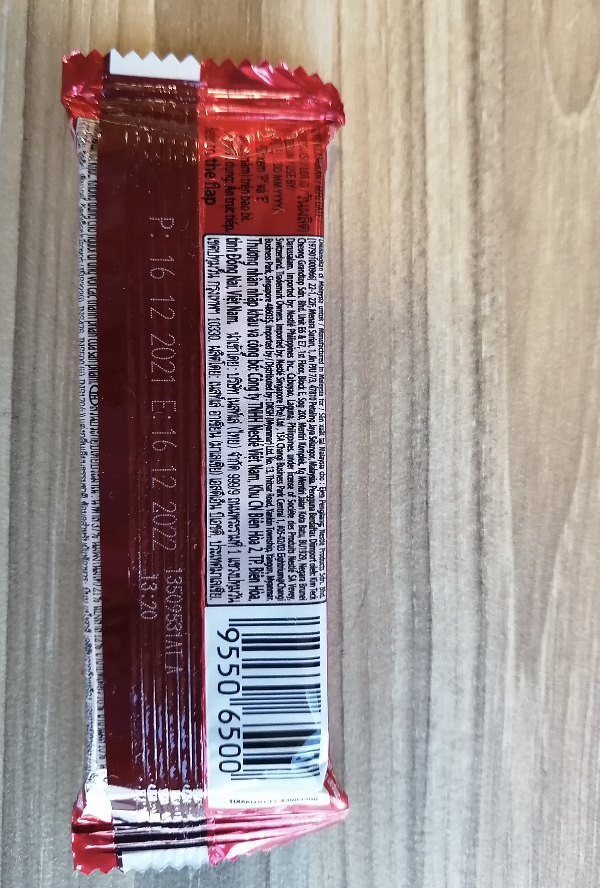Kitkat: (89, 143, 323, 798)
